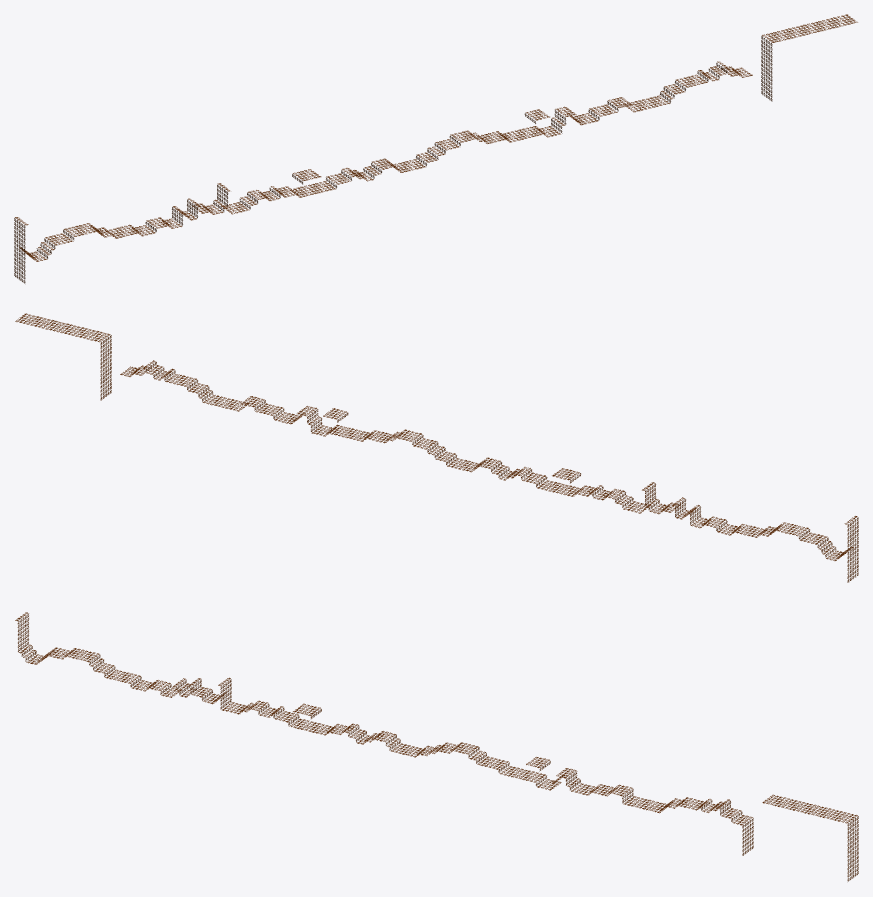
Rendered from Luna2Rachadura10.glb.
3 renders of one model, top to bottom at view 1: azimuth 30°, elevation 25°; view 2: azimuth 150°, elevation 25°; view 3: azimuth 330°, elevation 25°, orthographic.
Visible parts, largest first — view 1: Setor_1, Setor_6, Setor_4, Setor_2, Setor_5, Setor_3, Setor_0, Setor_-1; view 2: Setor_1, Setor_4, Setor_6, Setor_2, Setor_5, Setor_3, Setor_0, Setor_-1; view 3: Setor_6, Setor_0, Setor_4, Setor_2, Setor_1, Setor_5, Setor_3.
Boxes of the visible parts, bbox=[...] form: Setor_1: bbox=[135, 183, 264, 235]; Setor_6: bbox=[735, 14, 857, 101]; Setor_4: bbox=[496, 99, 625, 142]; Setor_2: bbox=[256, 161, 384, 200]; Setor_5: bbox=[615, 61, 744, 112]; Setor_3: bbox=[375, 130, 505, 172]; Setor_0: bbox=[15, 217, 144, 261]; Setor_-1: bbox=[14, 218, 25, 283]; Setor_1: bbox=[608, 482, 737, 534]; Setor_4: bbox=[248, 398, 376, 441]; Setor_6: bbox=[15, 313, 136, 400]; Setor_2: bbox=[488, 460, 616, 500]; Setor_5: bbox=[127, 360, 257, 411]; Setor_3: bbox=[368, 429, 496, 472]; Setor_0: bbox=[728, 516, 857, 560]; Setor_-1: bbox=[847, 517, 858, 582]; Setor_6: bbox=[736, 794, 858, 881]; Setor_0: bbox=[15, 612, 144, 688]; Setor_4: bbox=[496, 757, 625, 796]; Setor_2: bbox=[255, 702, 384, 744]; Setor_1: bbox=[135, 677, 264, 714]; Setor_5: bbox=[615, 786, 744, 823]; Setor_3: bbox=[375, 731, 504, 768].
Bounding box in the file's own units: 231 × 15.6 × 5.6.
1 material, 1 textured.
